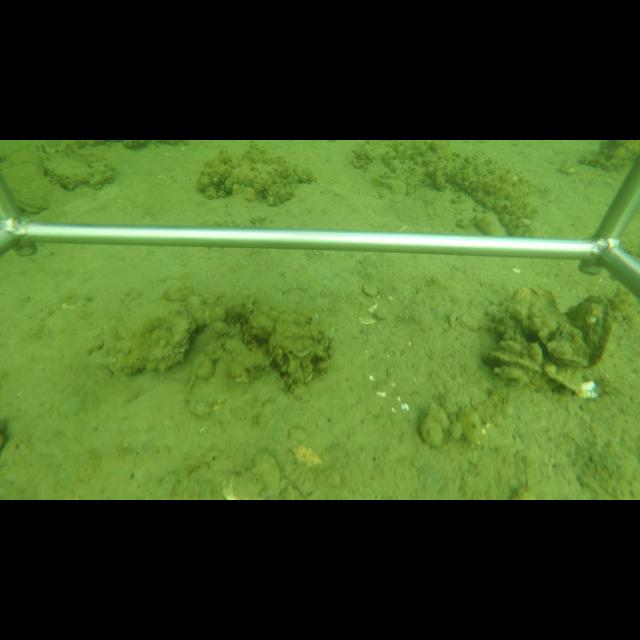Oyster-Closed: (102, 298, 196, 376), (568, 295, 621, 366), (4, 156, 62, 214), (43, 151, 104, 188), (542, 340, 592, 370), (485, 350, 541, 374), (543, 365, 585, 395)
